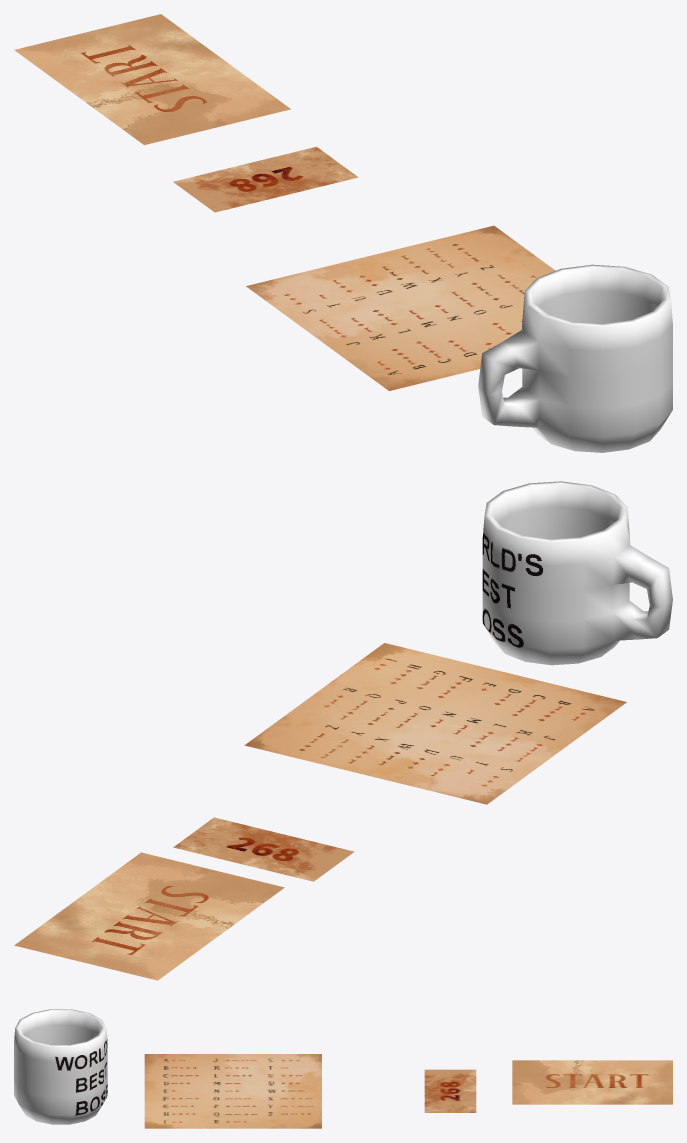
Rendered from hrnek_kartičky.fbx.
The picture shows the model from 3 angles, top to bottom: view 1: azimuth 30°, elevation 25°; view 2: azimuth 150°, elevation 25°; view 3: azimuth 270°, elevation 25°; orthographic projection. The views are drawn at different scales.
Parts seen in each view (by area): view 1: mug, navod, Plane, Plane.001; view 2: navod, mug, Plane, Plane.001; view 3: navod, mug, Plane, Plane.001.
Boxes of the visible parts, box(x1,y1,x2,y2) form: mug: box(478, 264, 672, 452); navod: box(246, 225, 555, 390); Plane: box(14, 14, 290, 144); Plane.001: box(173, 146, 358, 212); navod: box(244, 643, 626, 804); mug: box(482, 481, 672, 665); Plane: box(14, 852, 284, 980); Plane.001: box(173, 817, 354, 881); navod: box(144, 1054, 321, 1128); mug: box(14, 1009, 107, 1124); Plane: box(512, 1060, 672, 1104); Plane.001: box(424, 1069, 476, 1112).
Bounding box in the file's own units: 0.378 × 1.41 × 0.199.
